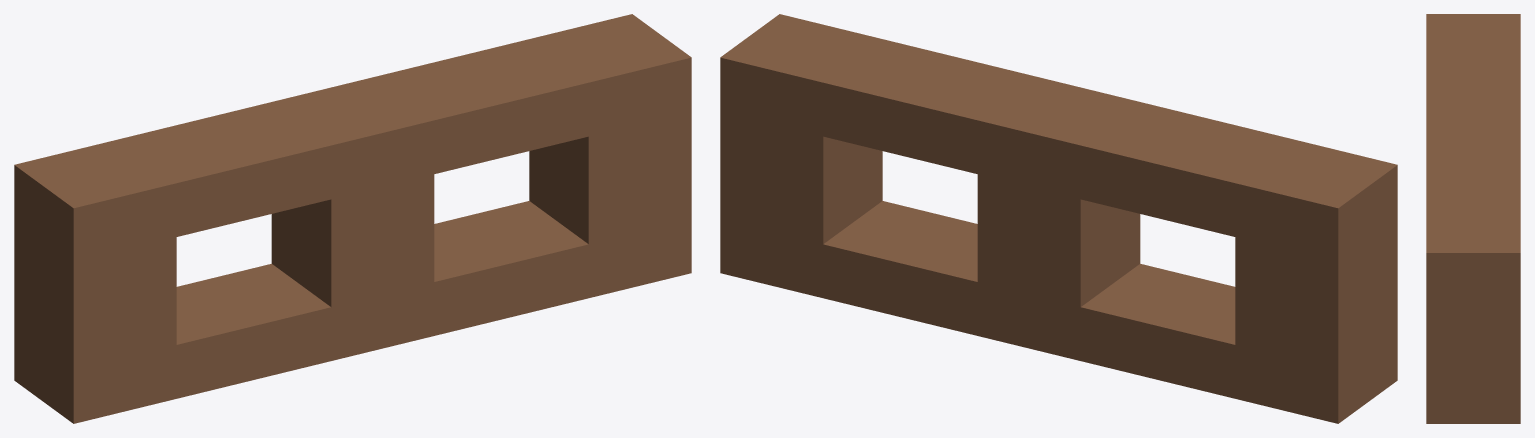
The model's file is cerco_cultivo.obj.
3 renders of one model, left to right at view 1: azimuth 30°, elevation 25°; view 2: azimuth 150°, elevation 25°; view 3: azimuth 270°, elevation 25°, orthographic. The views are drawn at different scales.
Bounding box in the file's own units: 12 × 4 × 2.
